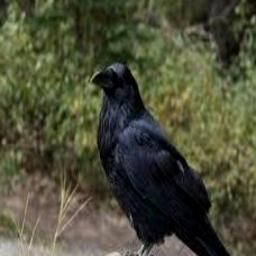Crow: (89, 61, 243, 256)
